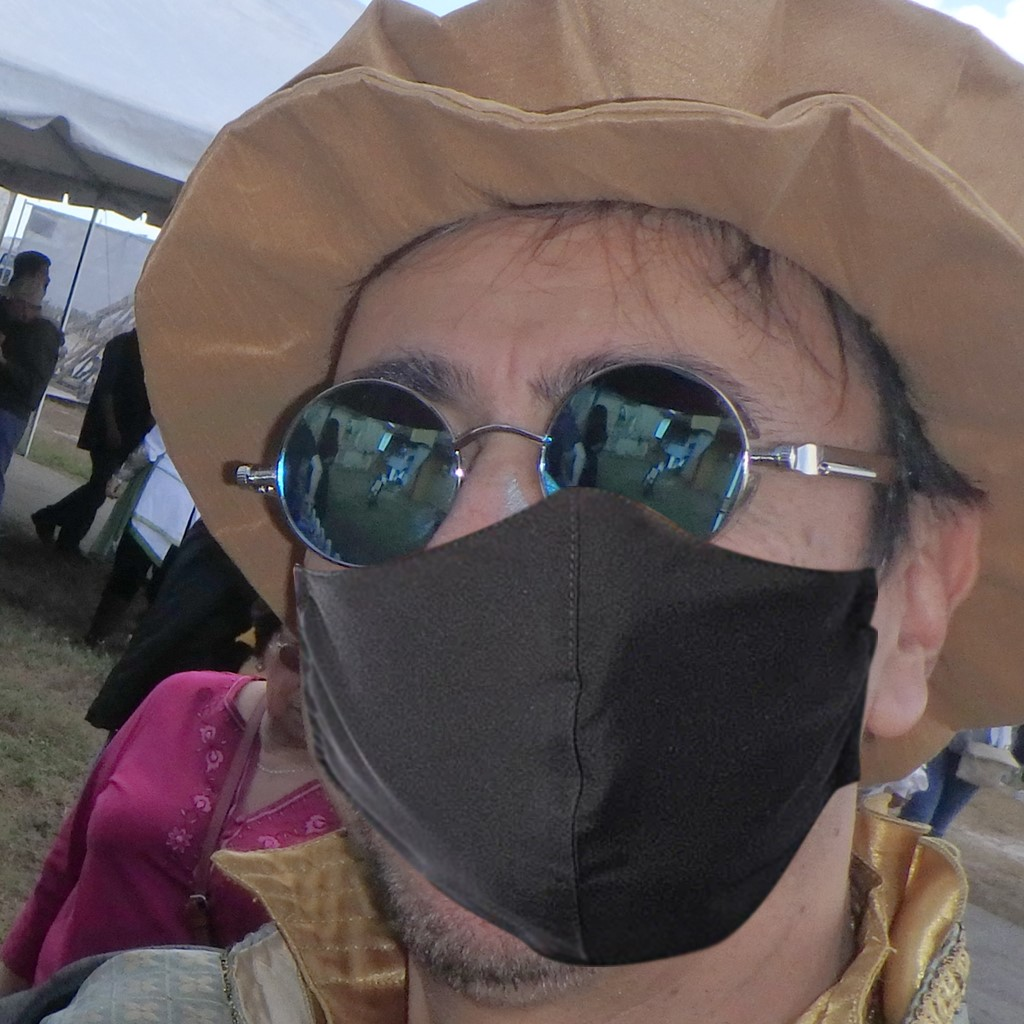con_mascara: (264, 162, 903, 1003)
